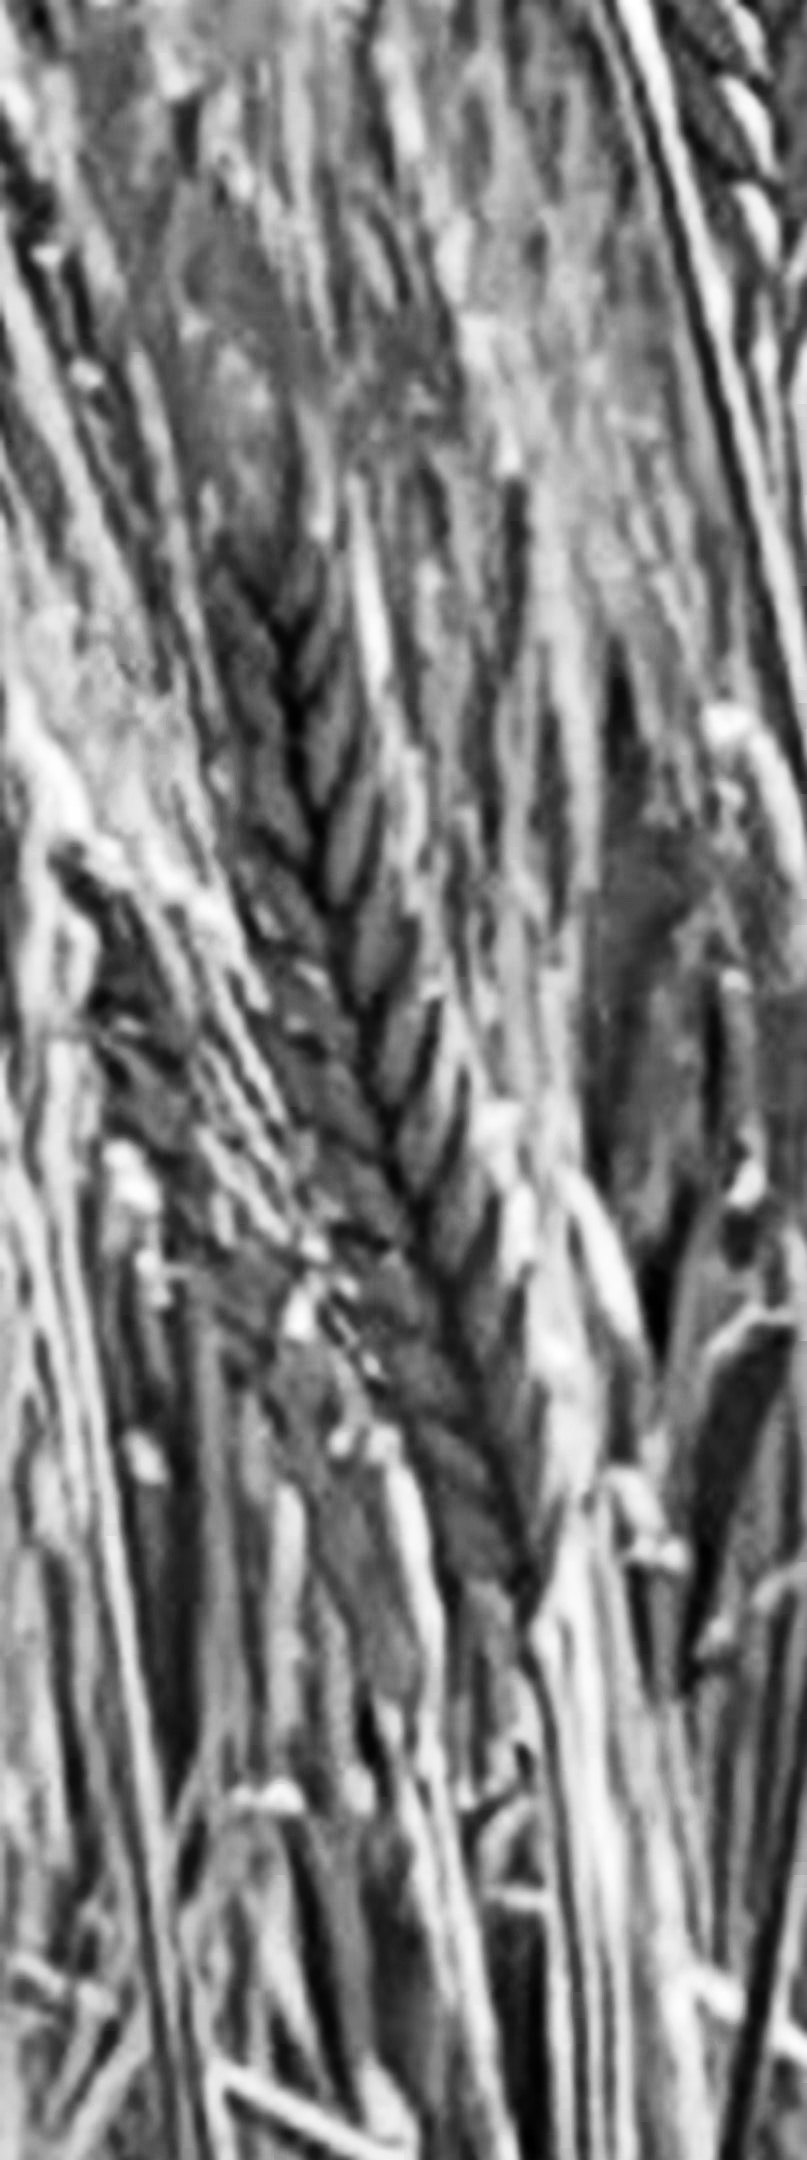Healthy Wheat: (197, 503, 651, 1584)
